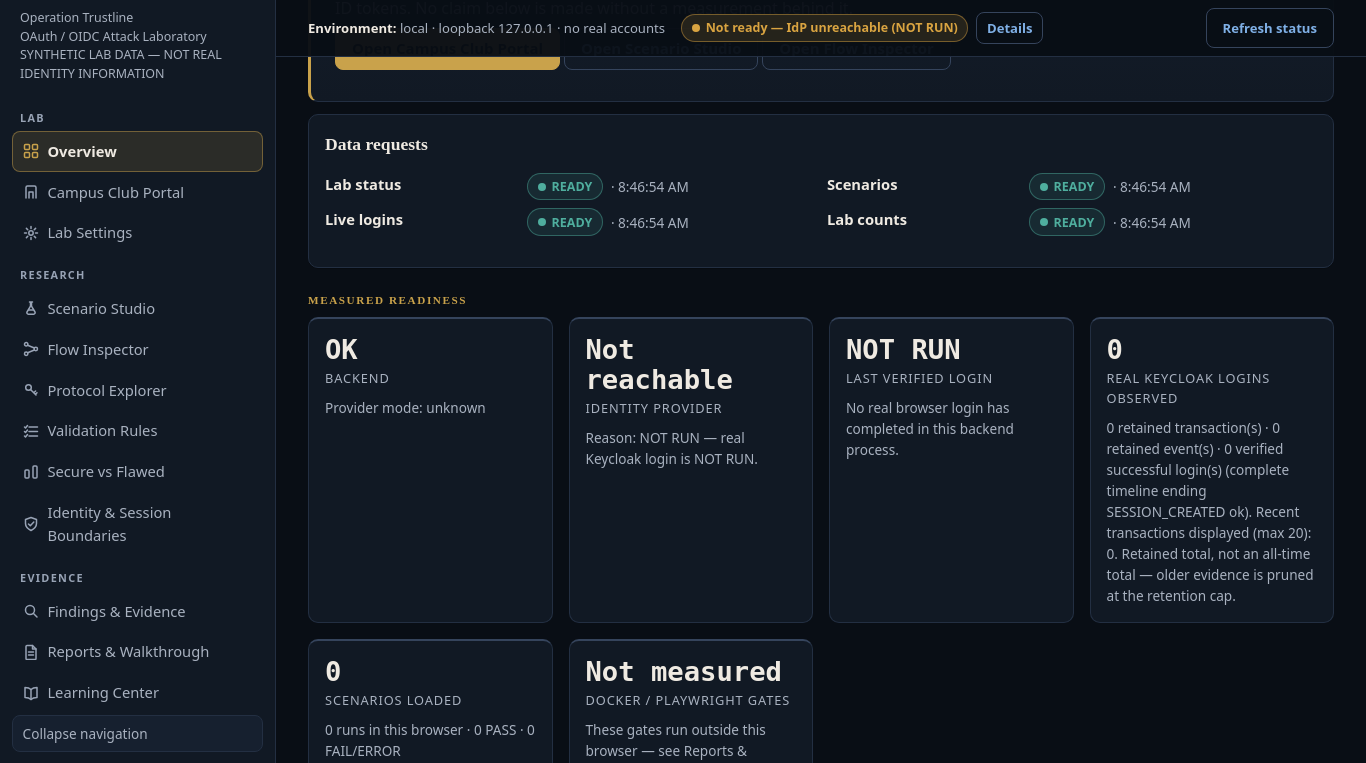
Test: App navigation and accessibility › navigates by keyboard/click, marks the current page, and updates the URL
This screenshot has width=1366, height=763.
(page scrolled)
What coordinates should you click on to do the following:
click the link "Learning Center"
I would click on:
 (91, 692)
Its box is [23,682,159,702].
(page scrolled)
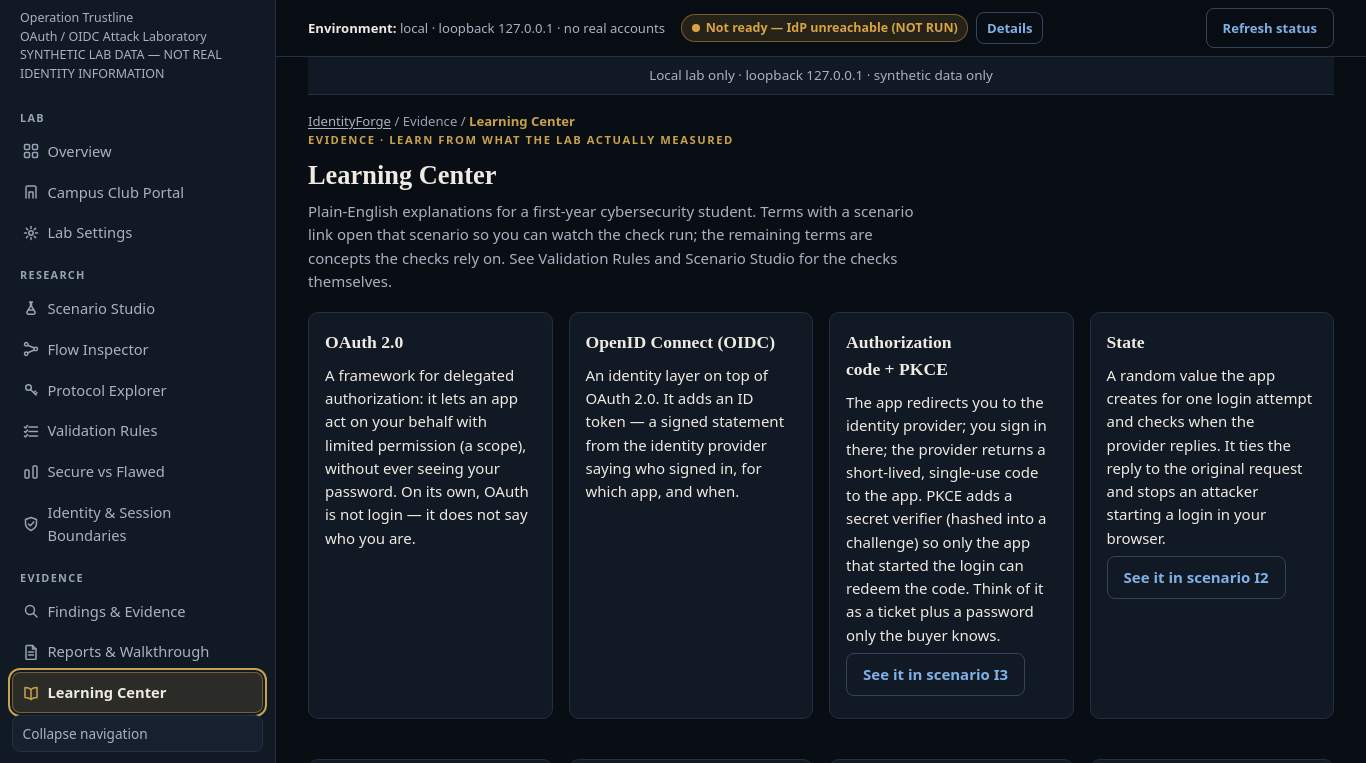
Check: the heading "Learning Center" is shown, box [308,160,496,190]
